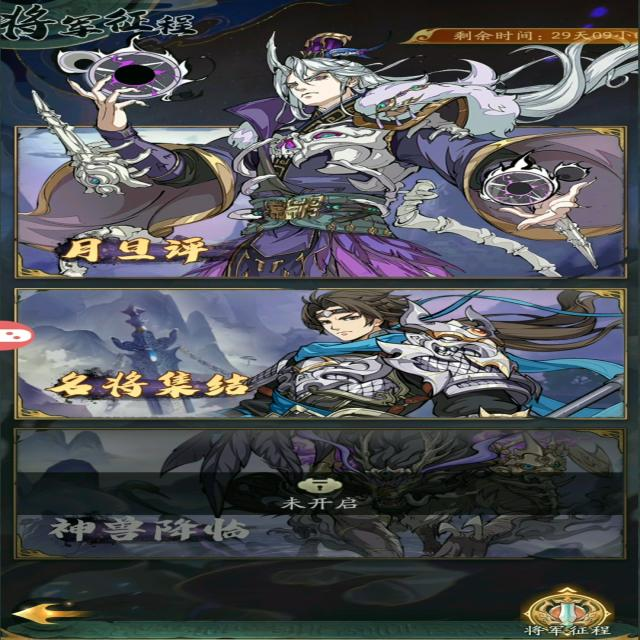operation-back: (12, 593, 81, 628)
operation-jiangjunzhengcheng: (494, 588, 622, 639)
operation-shenshoujianglinoff: (14, 427, 630, 562)
operation-yuedanping: (20, 126, 630, 272), (8, 289, 622, 421)
